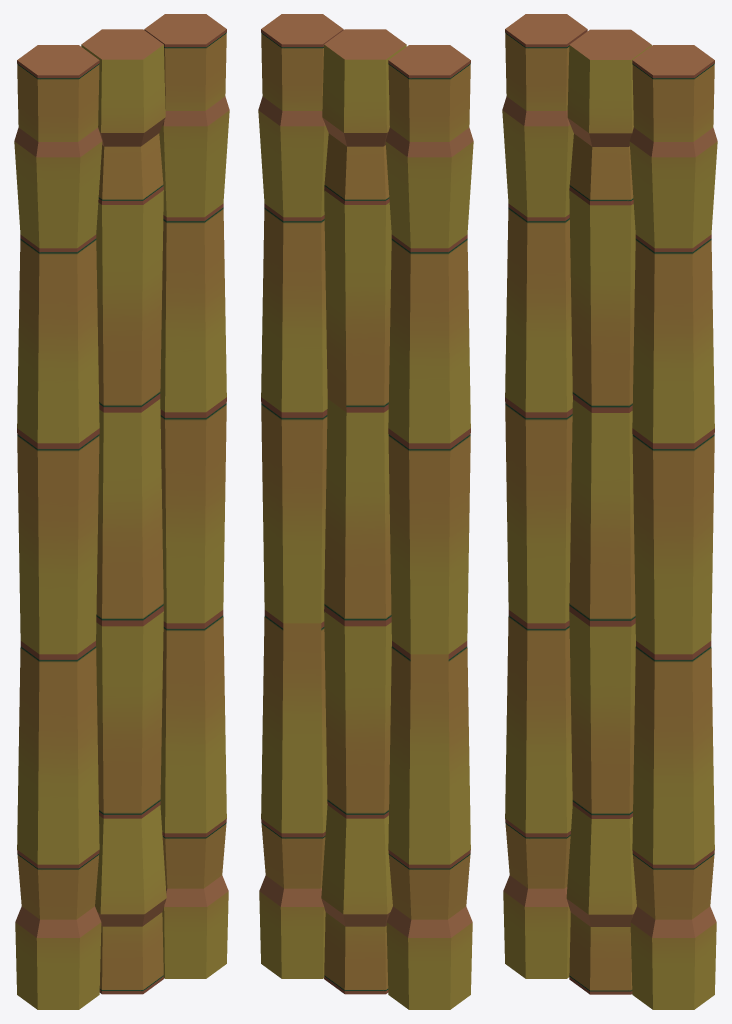
Rendered from SM_Bamboo_Bridge_2.fbx.
3 renders of one model, left to right at view 1: azimuth 30°, elevation 25°; view 2: azimuth 150°, elevation 25°; view 3: azimuth 330°, elevation 25°, orthographic.
Visible parts, largest first — view 1: Cylinder.005; view 2: Cylinder.005; view 3: Cylinder.005.
Part boxes in pixels (x1,y1,x2,y2): Cylinder.005: [14, 14, 229, 1009]; Cylinder.005: [258, 14, 473, 1009]; Cylinder.005: [502, 14, 717, 1009].
Size of the model in its own units: 43.31 by 200 by 17.09.
